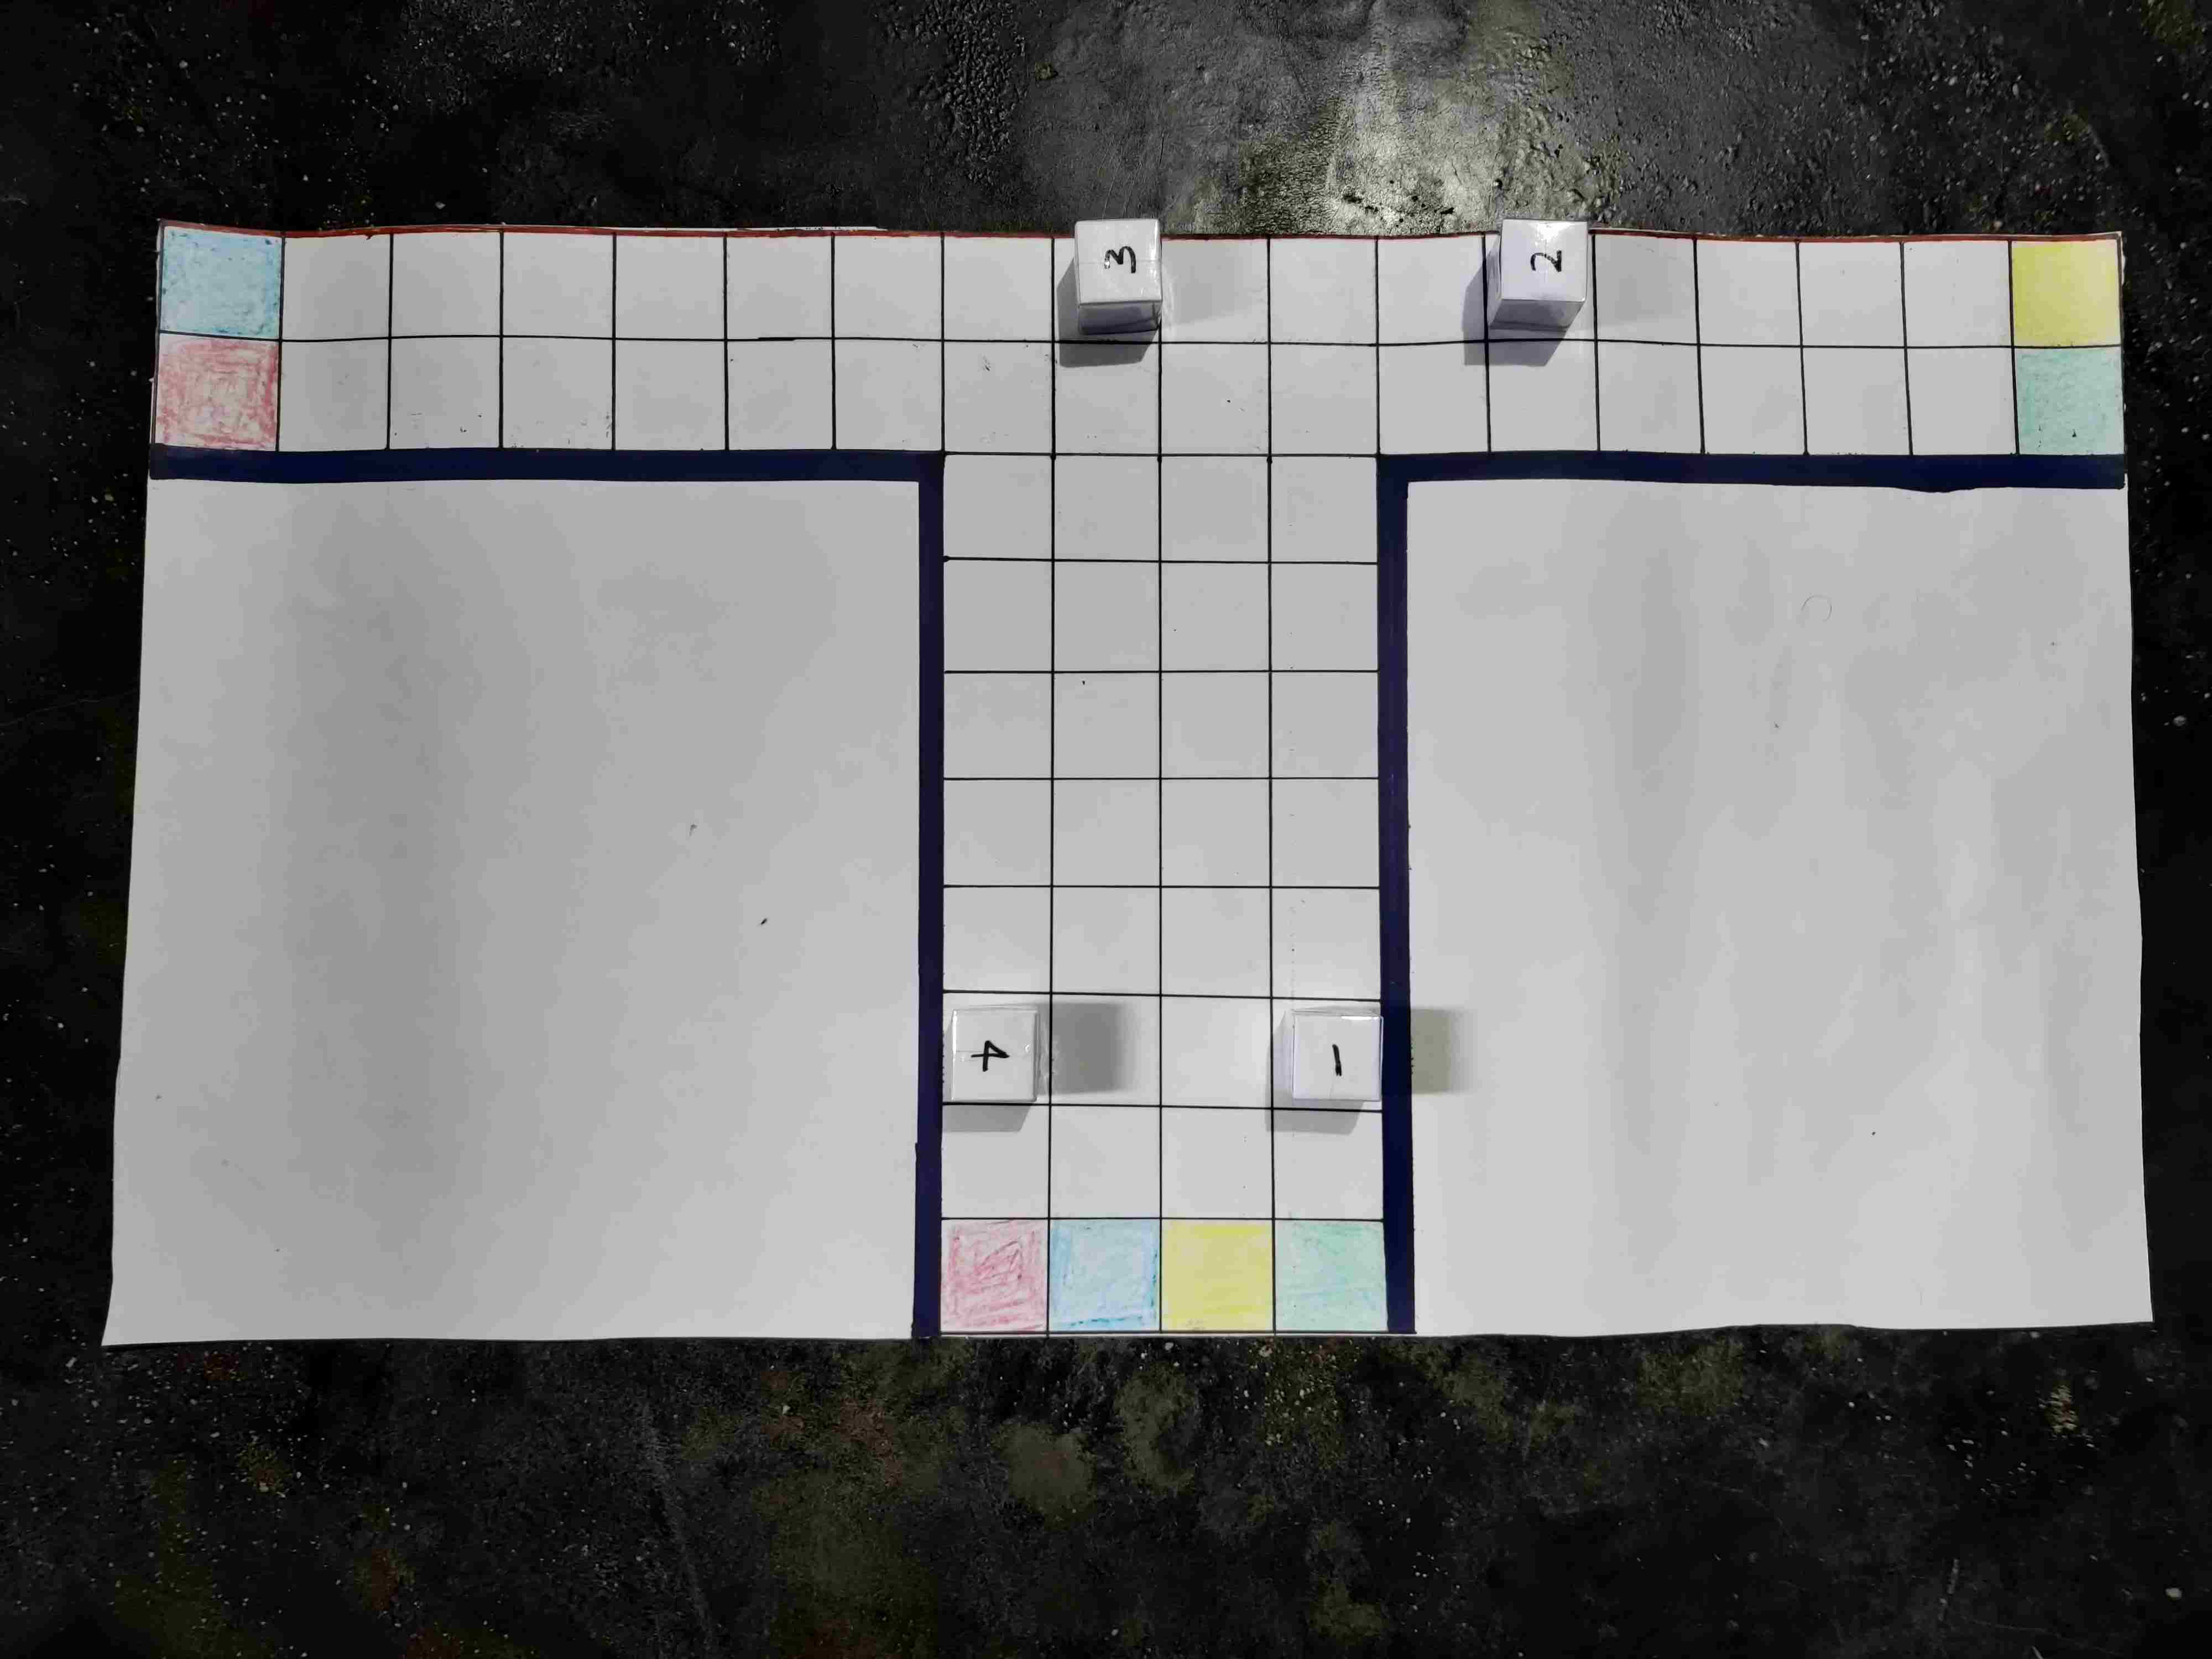arena: (150, 228, 2123, 1330)
bot: (954, 1014, 1036, 1100), (1296, 1019, 1381, 1098), (1075, 225, 1157, 303), (1507, 227, 1587, 303)
